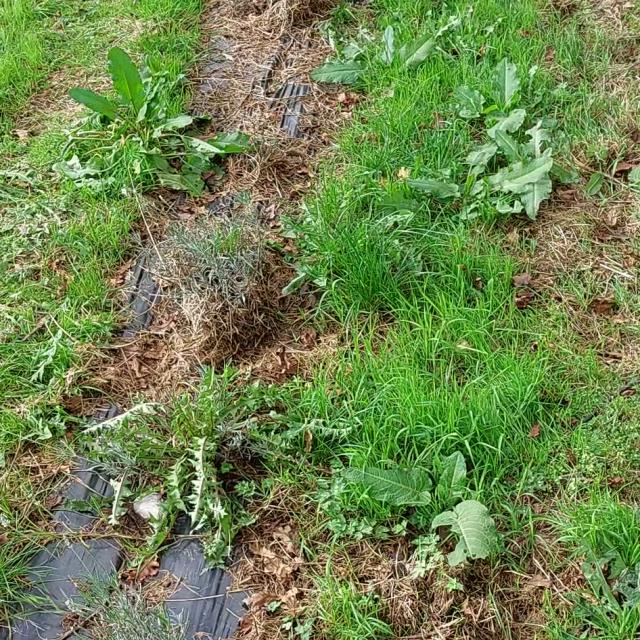organic waste: (62, 43, 232, 188), (350, 436, 532, 561), (386, 155, 555, 236), (473, 121, 611, 214), (450, 46, 569, 144), (317, 18, 450, 98)
